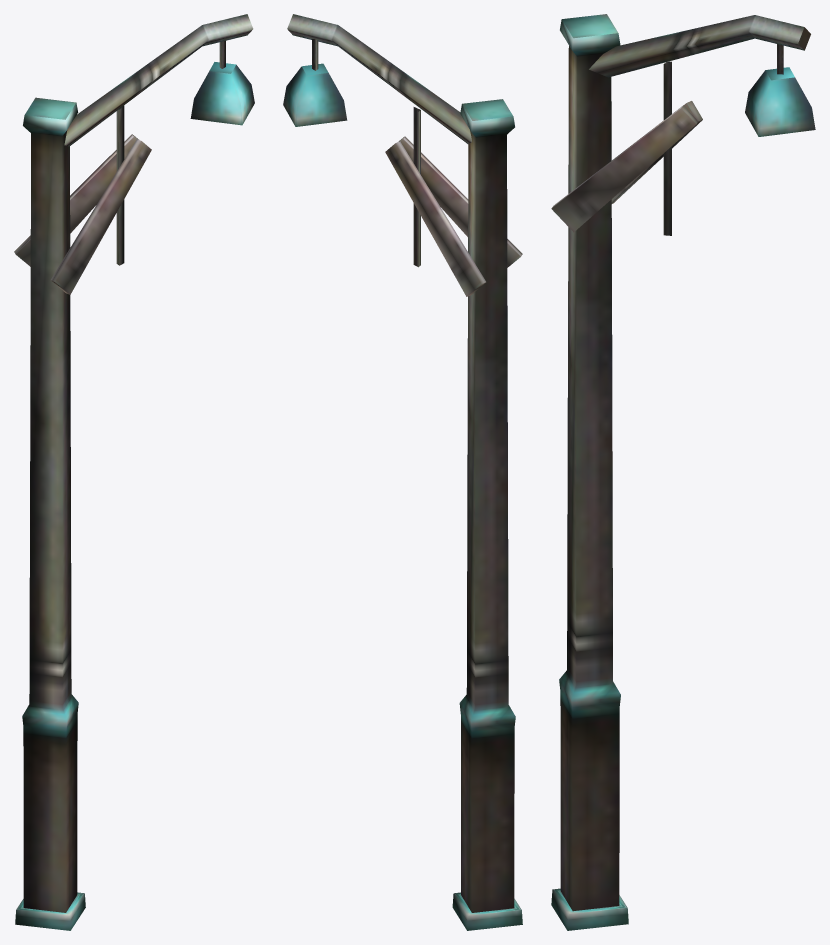
The model's file is zc_lekesigang_ludeng01.FBX.
3 renders of one model, left to right at view 1: azimuth 30°, elevation 25°; view 2: azimuth 150°, elevation 25°; view 3: azimuth 330°, elevation 25°, orthographic. The views are drawn at different scales.
Parts seen in each view (by area): view 1: zc_lekesigang_ludeng01; view 2: zc_lekesigang_ludeng01; view 3: zc_lekesigang_ludeng01.
Part boxes in pixels (bbox=[...]): zc_lekesigang_ludeng01: bbox=[14, 14, 254, 930]; zc_lekesigang_ludeng01: bbox=[283, 14, 522, 930]; zc_lekesigang_ludeng01: bbox=[551, 14, 815, 930].
Bounding box in the file's own units: 82.43 × 281 × 24.78.
Materials: 1 (1 with a texture image).
